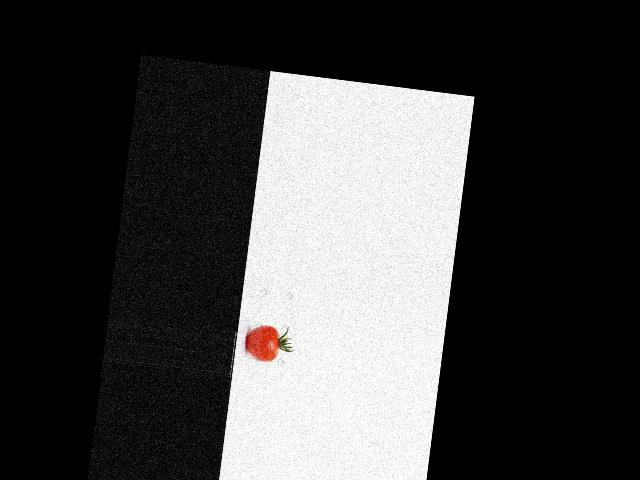tomato: (244, 322, 281, 362)
